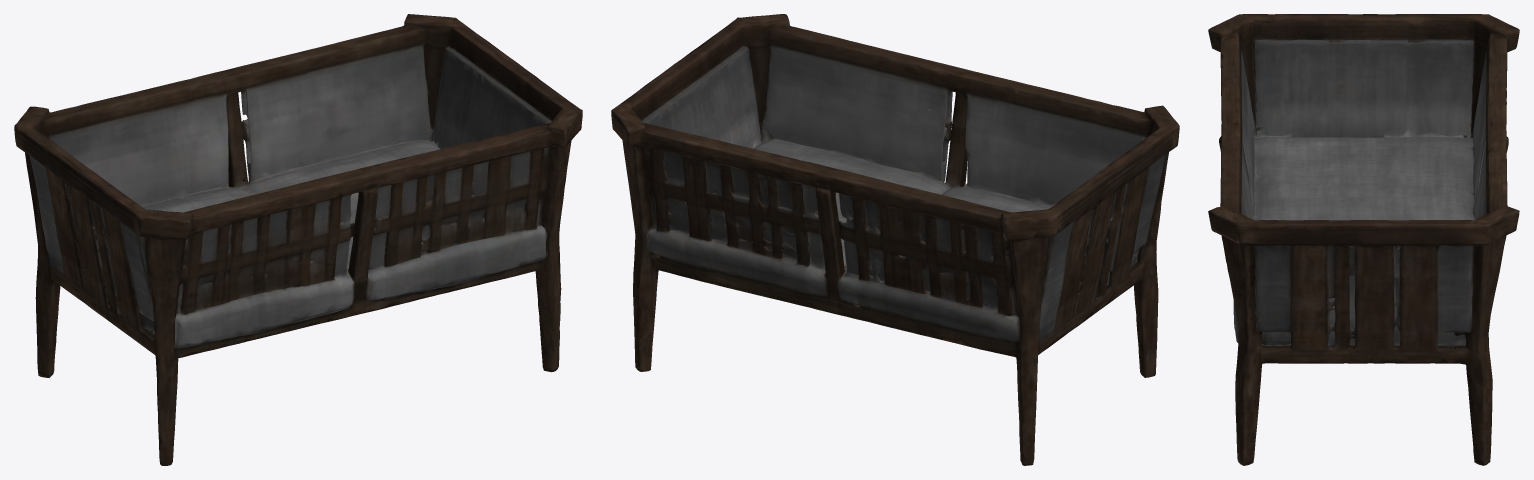
Rendered from grey_2.glb.
3 views of the same model, side by side, from view 1: azimuth 30°, elevation 25°; view 2: azimuth 150°, elevation 25°; view 3: azimuth 270°, elevation 25° (orthographic).
Visible parts, largest first — view 1: geometry_0; view 2: geometry_0; view 3: geometry_0.
Part boxes in pixels (left/top/right/bottom): geometry_0: left=14, top=14, right=582, bottom=465; geometry_0: left=611, top=14, right=1179, bottom=465; geometry_0: left=1208, top=14, right=1519, bottom=465.
Size of the model in its own units: 1 by 0.5533 by 0.6213.
1 material, 1 textured.
